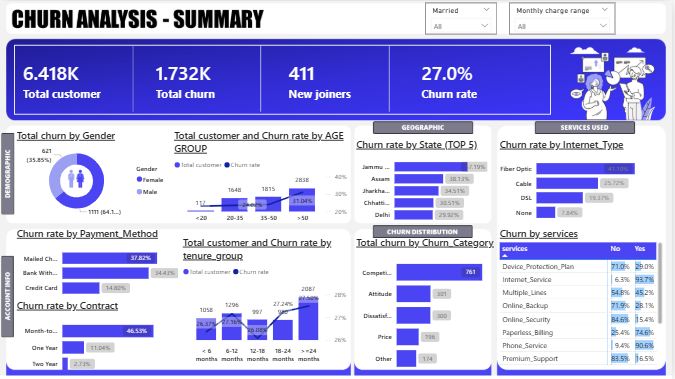

What the dashboard file says about the page in this screenshot:
{"tool":"powerbi","page":{"name":"SUMMARY","canvas":[1280,720],"ordinal":0},"visuals":[{"type":"cardVisual","fields":{"Data":["tbl_measure.Total customer","tbl_measure.Total churn","tbl_measure.New joiners","tbl_measure.Churn rate"]},"box":[25,82.5,1025,135],"z":0},{"type":"donutChart","fields":{"Category":["project prod_churn.Gender"],"Y":["tbl_measure.Total churn"]},"box":[25,243,300,174],"z":1},{"type":"lineStackedColumnComboChart","fields":{"Category":["MAPPING_AGE.AGE GROUP"],"Y":["tbl_measure.Total customer"],"Y2":["tbl_measure.Churn rate"]},"box":[325,242.5,340,187.5],"z":2},{"type":"clusteredBarChart","fields":{"Category":["project prod_churn.Payment_Method"],"Y":["tbl_measure.Churn rate"]},"box":[25,430,317.5,145],"z":3},{"type":"barChart","fields":{"Category":["project prod_churn.Contract"],"Y":["tbl_measure.Churn rate"]},"box":[25,565,317.5,155],"z":4},{"type":"lineStackedColumnComboChart","title":"Total customer and Churn rate by tenure_group","fields":{"Category":["mapping_tenure.tenure_grp"],"Y":["tbl_measure.Total customer"],"Y2":["tbl_measure.Churn rate"]},"box":[342.5,447.5,322.5,250],"z":5},{"type":"clusteredBarChart","title":"Churn rate by State (TOP 5)","fields":{"Category":["project prod_churn.State"],"Y":["tbl_measure.Churn rate"]},"box":[672.7,260,260,170.9],"z":6},{"type":"clusteredBarChart","fields":{"Category":["project prod_churn.Churn_Category"],"Y":["tbl_measure.Total churn"]},"box":[672.5,447.5,275,272.5],"z":7},{"type":"pivotTable","title":"Churn by services","fields":{"Rows":["prod_services.services"],"Columns":["prod_services.status"],"Values":["Sum(prod_services.Churn statues)"]},"box":[947.3,430.9,320,267.3],"z":8},{"type":"slicer","fields":{"Values":["project prod_churn.monthly charge status"]},"box":[970.9,1.8,201.8,60],"z":9},{"type":"slicer","fields":{"Values":["project prod_churn.Married"]},"box":[810.9,1.8,136.4,60],"z":10},{"type":"clusteredBarChart","fields":{"Category":["project prod_churn.Internet_Type"],"Y":["tbl_measure.Churn rate"]},"box":[947.5,260,320,170],"z":11},{"type":"image","box":[123,301,44,76],"z":13}]}

Visuals, with their boxes in screenshot pixels (x1, y1, x2, y2), scaled from the page's 1280x720 canvas onto the 675x379 screenshot:
cardVisual - tbl_measure.Total customer x tbl_measure.Total churn: bbox=(13, 43, 554, 114)
donutChart - project prod_churn.Gender x tbl_measure.Total churn: bbox=(13, 128, 171, 220)
lineStackedColumnComboChart - MAPPING_AGE.AGE GROUP x tbl_measure.Total customer: bbox=(171, 128, 351, 226)
clusteredBarChart - project prod_churn.Payment_Method x tbl_measure.Churn rate: bbox=(13, 226, 181, 303)
barChart - project prod_churn.Contract x tbl_measure.Churn rate: bbox=(13, 297, 181, 378)
"Total customer and Churn rate by tenure_group" lineStackedColumnComboChart: bbox=(181, 236, 351, 367)
"Churn rate by State (TOP 5)" clusteredBarChart: bbox=(355, 137, 492, 227)
clusteredBarChart - project prod_churn.Churn_Category x tbl_measure.Total churn: bbox=(355, 236, 500, 378)
"Churn by services" pivotTable: bbox=(500, 227, 668, 368)
slicer - project prod_churn.monthly charge status: bbox=(512, 1, 618, 33)
slicer - project prod_churn.Married: bbox=(428, 1, 500, 33)
clusteredBarChart - project prod_churn.Internet_Type x tbl_measure.Churn rate: bbox=(500, 137, 668, 226)
image: bbox=(65, 158, 88, 198)
